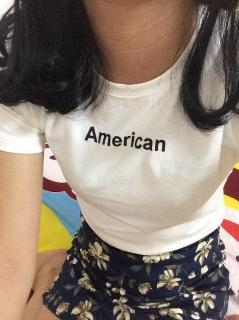short sleeve top: (0, 0, 239, 255)
skirt: (42, 210, 230, 319)
